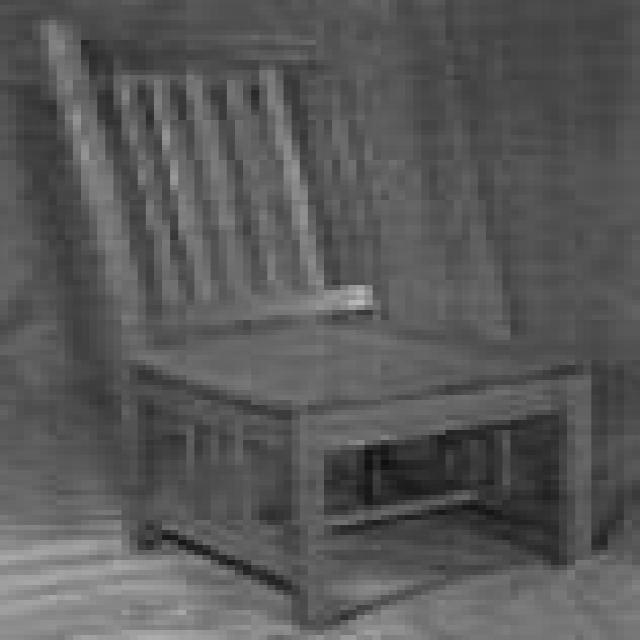chair: (31, 6, 604, 630)
